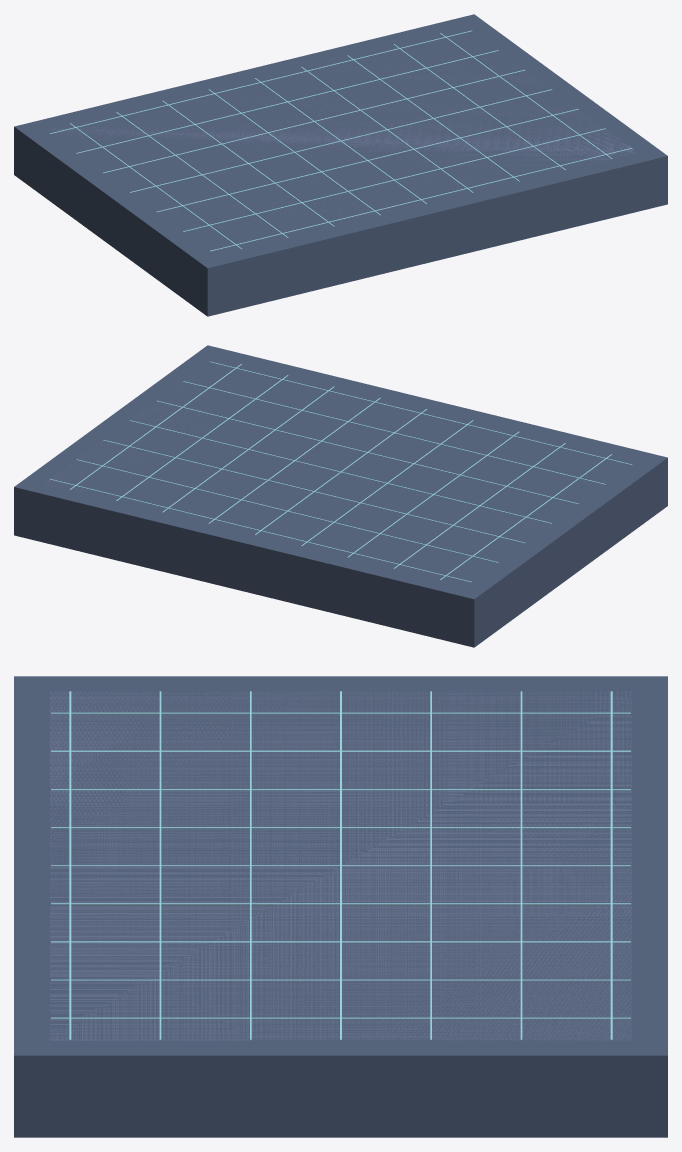
Rendered from plaza_elevada.glb.
3 renders of one model, top to bottom at view 1: azimuth 30°, elevation 25°; view 2: azimuth 150°, elevation 25°; view 3: azimuth 270°, elevation 25°, orthographic. The views are drawn at different scales.
Parts seen in each view (by area): view 1: plaza_elevada; view 2: plaza_elevada; view 3: plaza_elevada.
Part boxes in pixels (x1=…): plaza_elevada: x1=14, y1=14, x2=667, y2=316; plaza_elevada: x1=14, y1=345, x2=667, y2=647; plaza_elevada: x1=14, y1=676, x2=667, y2=1137.
Size of the model in its own units: 19.9 by 2.01 by 14.5.
